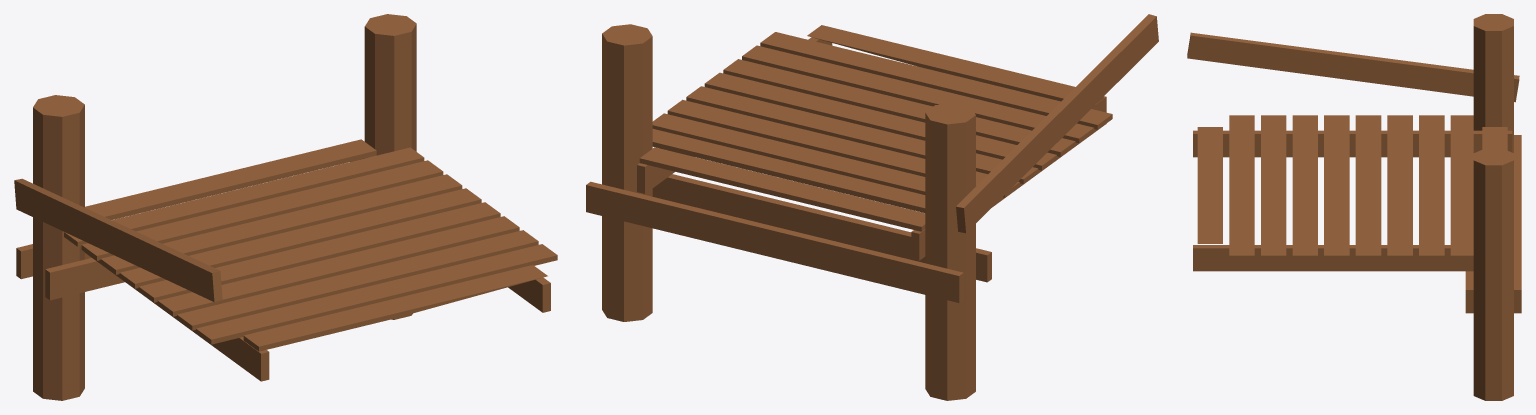
File: Barrier Dock Attach 5.fbx
The picture shows the model from 3 angles, left to right: view 1: azimuth 30°, elevation 25°; view 2: azimuth 150°, elevation 25°; view 3: azimuth 270°, elevation 25°; orthographic projection. The views are drawn at different scales.
Parts seen in each view (by area): view 1: Barrier Dock Attach 5; view 2: Barrier Dock Attach 5; view 3: Barrier Dock Attach 5.
Boxes of the visible parts, box(x1,y1,x2,y2) form: Barrier Dock Attach 5: box(14, 14, 557, 400); Barrier Dock Attach 5: box(586, 14, 1158, 400); Barrier Dock Attach 5: box(1187, 14, 1521, 400).
Bounding box in the file's own units: 410 × 288 × 370.
